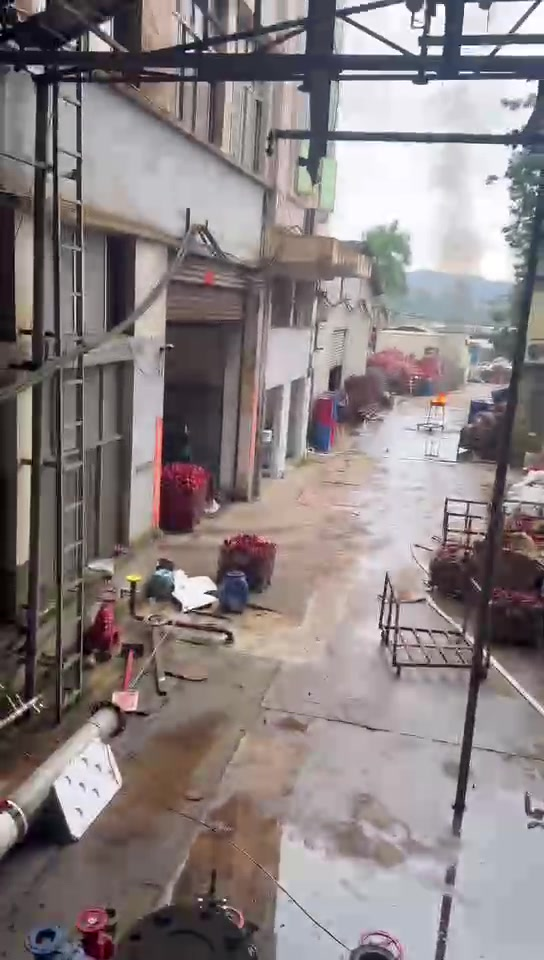fire: (431, 392, 446, 404)
